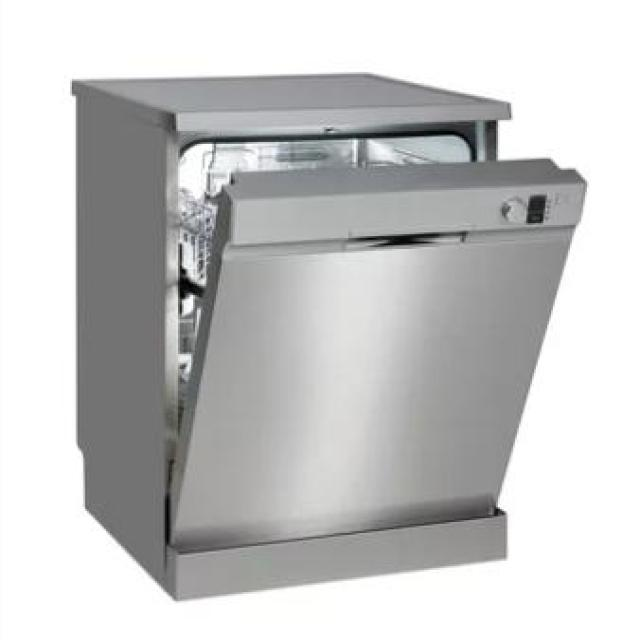dishwasher: (64, 70, 584, 601)
